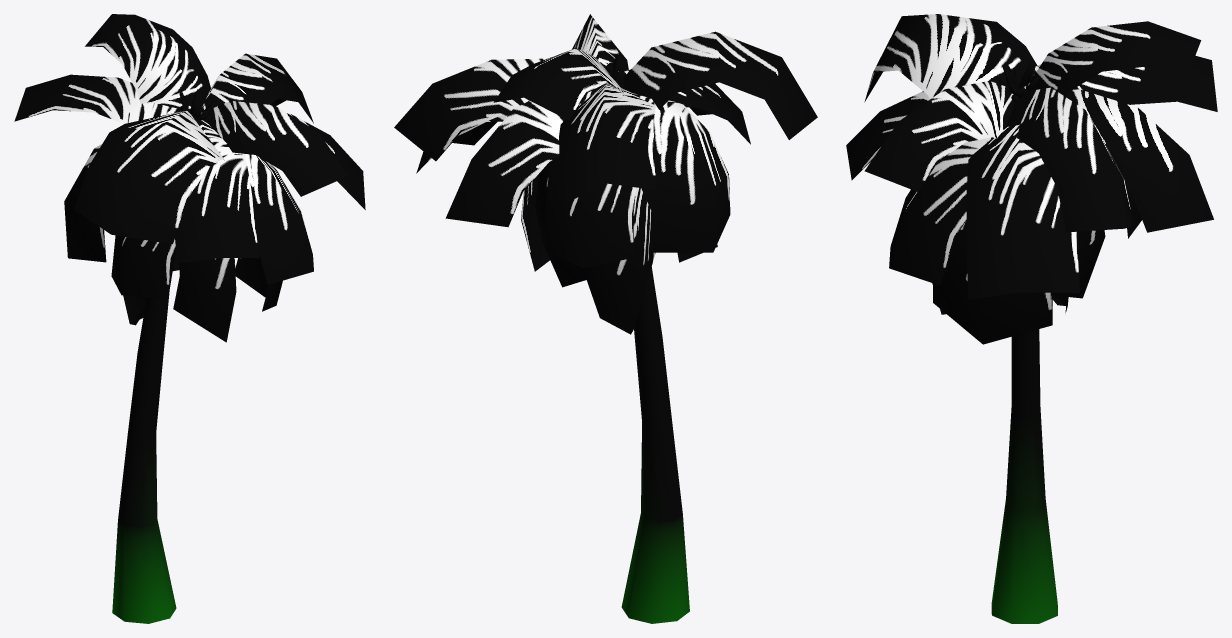
The model's file is P_CoconutPalmC03.obj.
The picture shows the model from 3 angles, left to right: view 1: azimuth 30°, elevation 25°; view 2: azimuth 150°, elevation 25°; view 3: azimuth 270°, elevation 25°; orthographic projection. The views are drawn at different scales.
Bounding box in the file's own units: 5.4 × 8.93 × 4.9.
